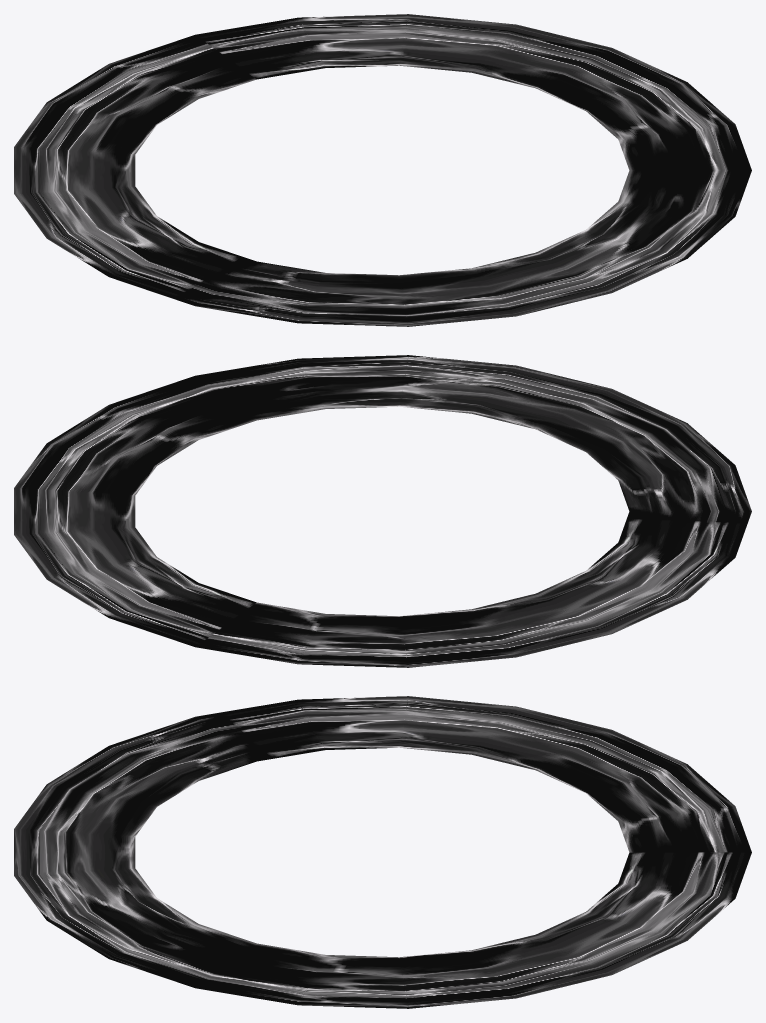
File: yanwu.FBX
3 views of the same model, one above another, from view 1: azimuth 30°, elevation 25°; view 2: azimuth 150°, elevation 25°; view 3: azimuth 270°, elevation 25° (orthographic).
Visible parts, largest first — view 1: Tube001; view 2: Tube001; view 3: Tube001.
Boxes of the visible parts, x1=… form: Tube001: x1=14, y1=14, x2=751, y2=326; Tube001: x1=14, y1=355, x2=751, y2=667; Tube001: x1=14, y1=696, x2=751, y2=1008.
Size of the model in its own units: 4.99 by 4.51e-07 by 4.98.
